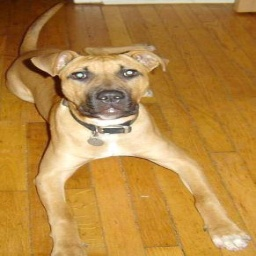dog: (9, 1, 245, 255)
